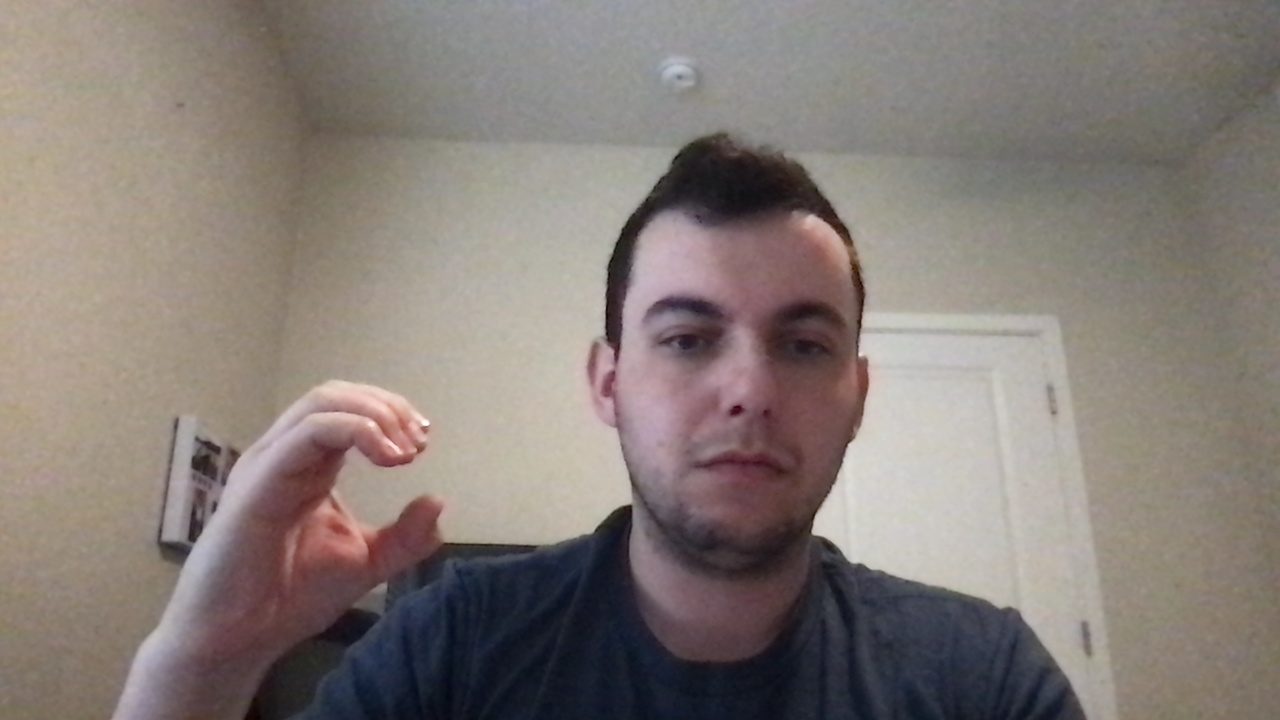c: (152, 377, 501, 615)
